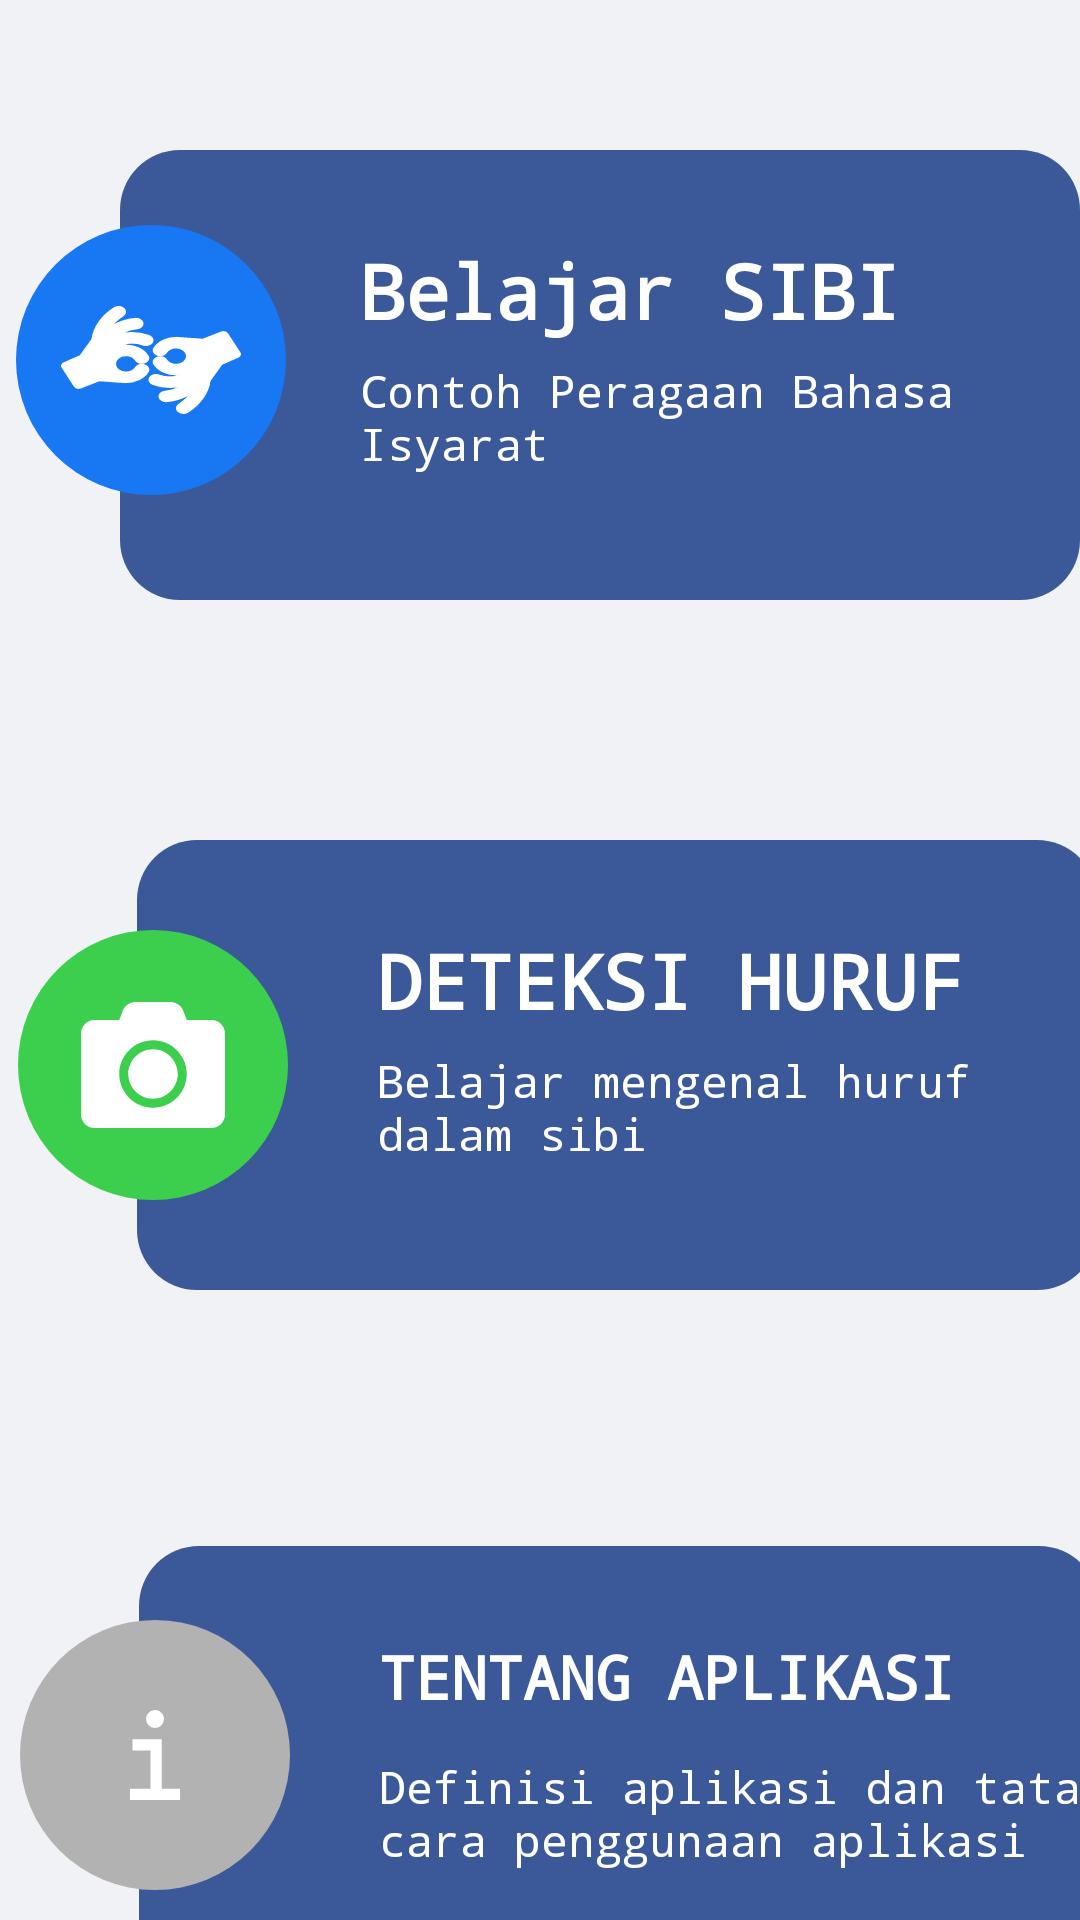

Icon bounding boxes for this 1080 x 1920 phone screenshot, format box(x1, y1, x2, y2):
american sign language interpreting: box(61, 306, 241, 414)
camera: box(81, 1002, 225, 1128)
information: box(130, 1710, 180, 1800)
